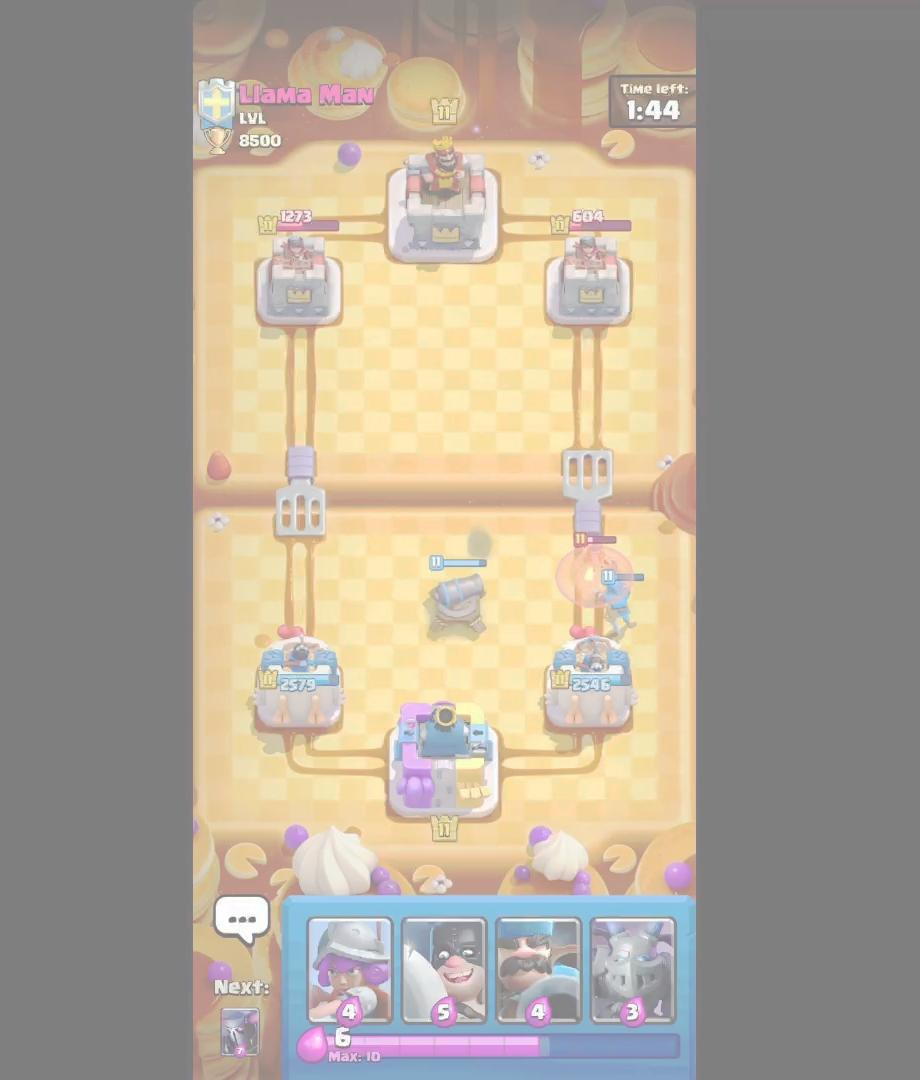Valkyrie: (572, 525, 628, 596)
